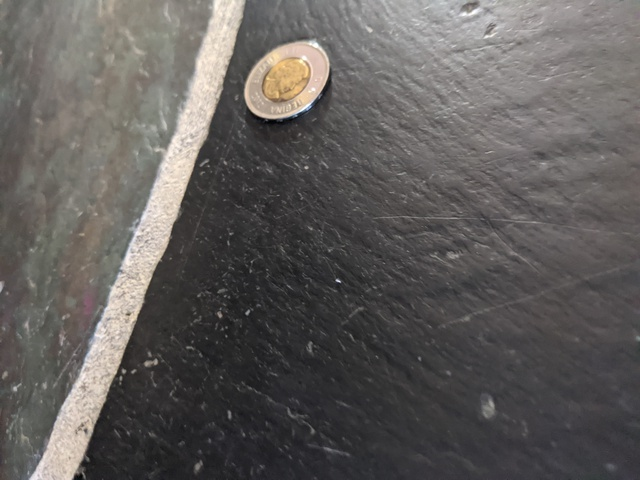twonie: (230, 37, 358, 133)
